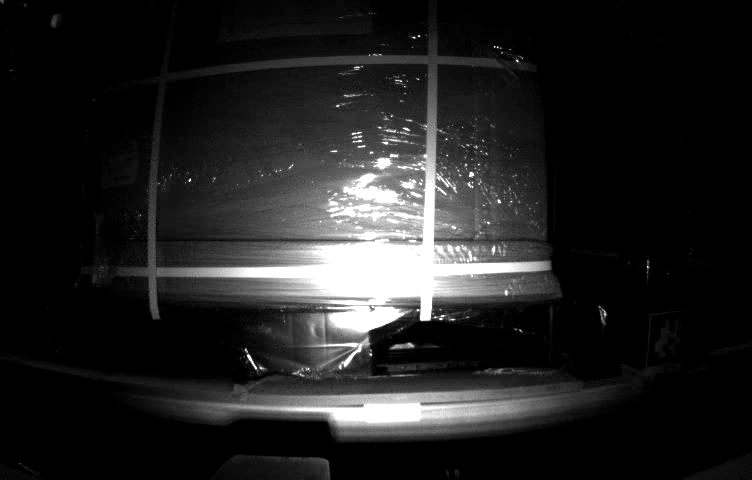True Barcode: (98, 143, 133, 184)
